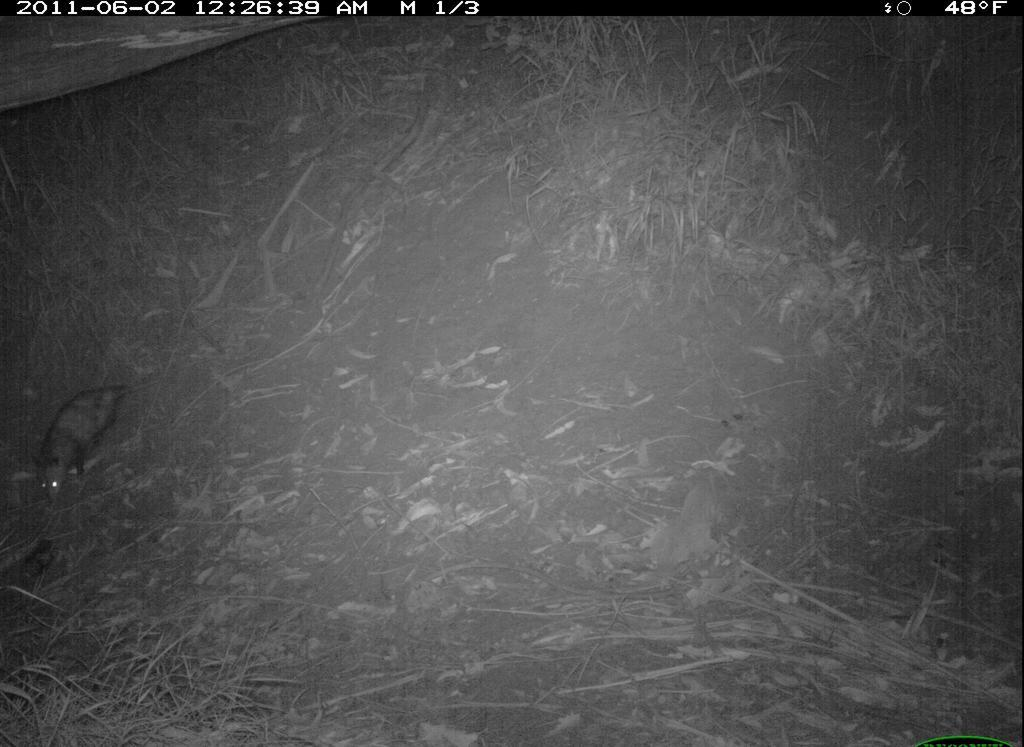opossum: (30, 356, 172, 515)
